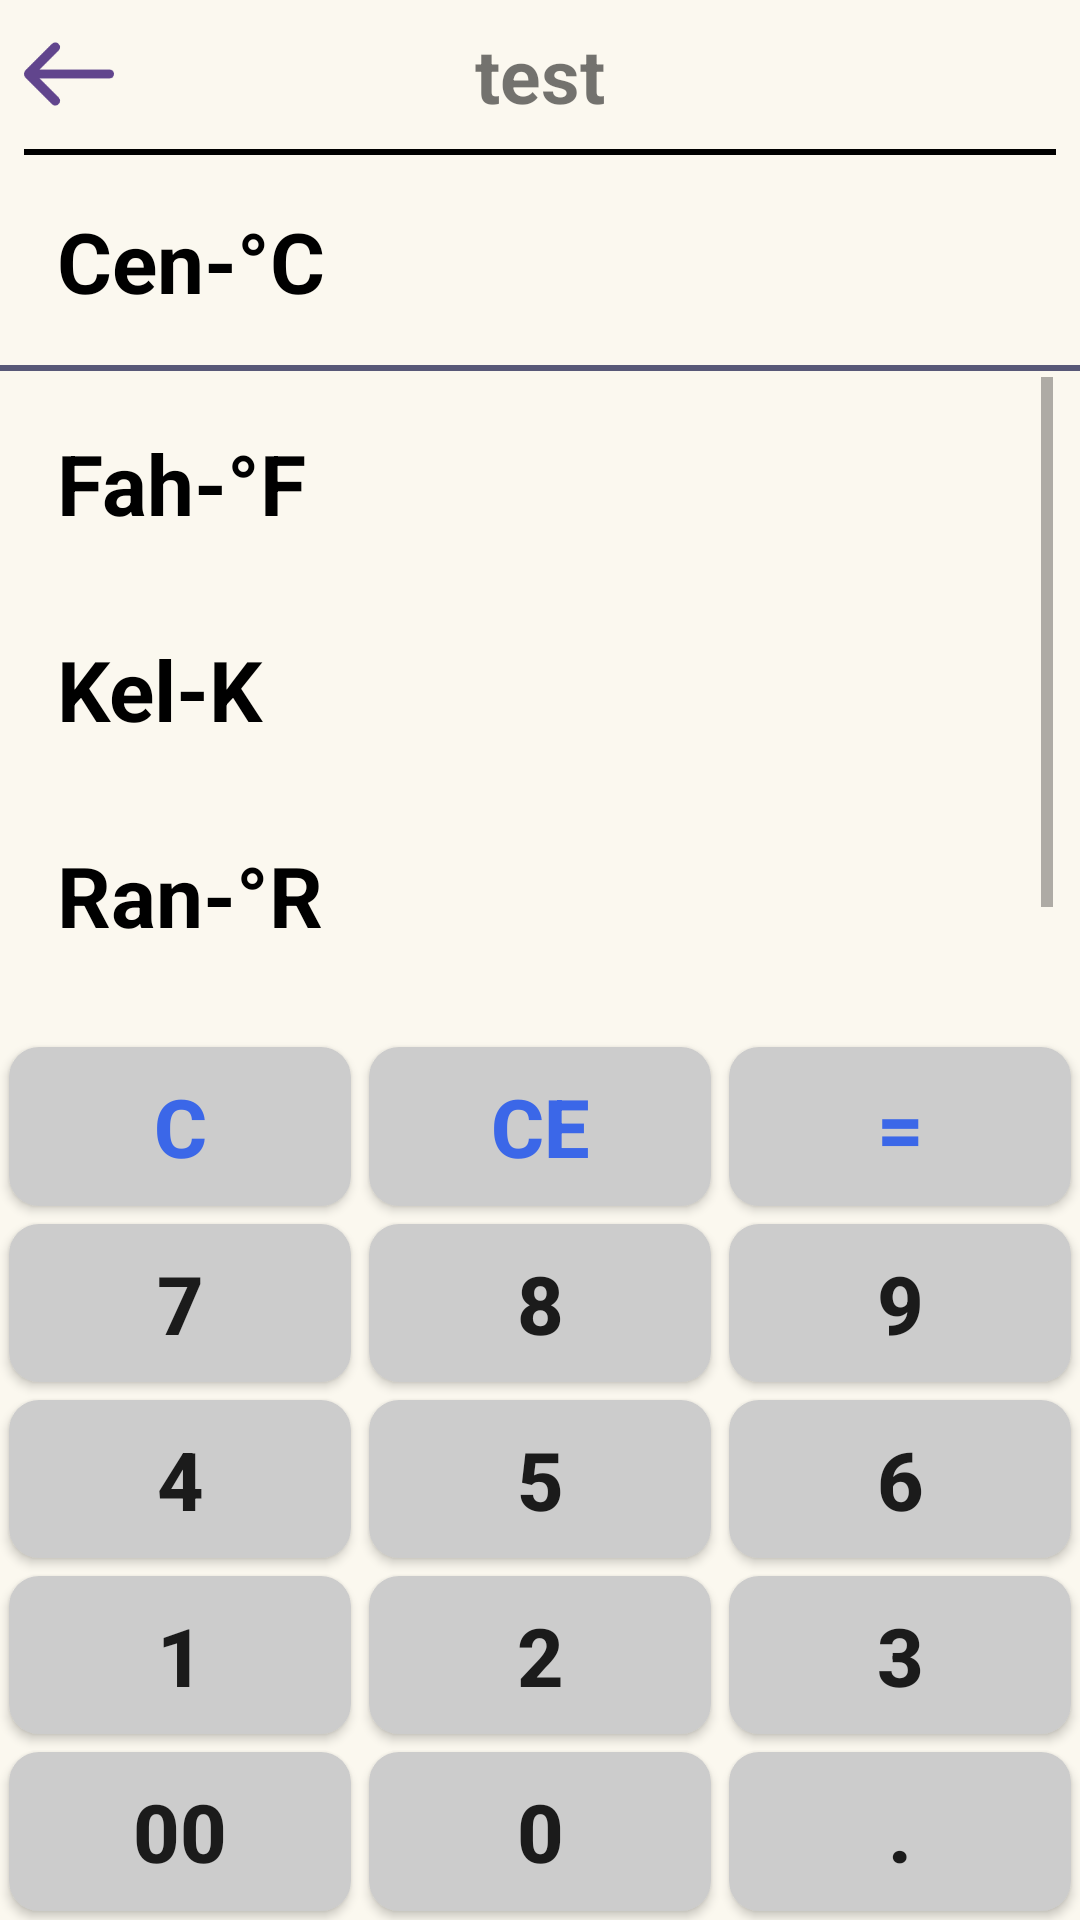

Where to tap for icons on this 1080w x 1920h app screen, as (x=x, y=y):
back: (x=69, y=74)
